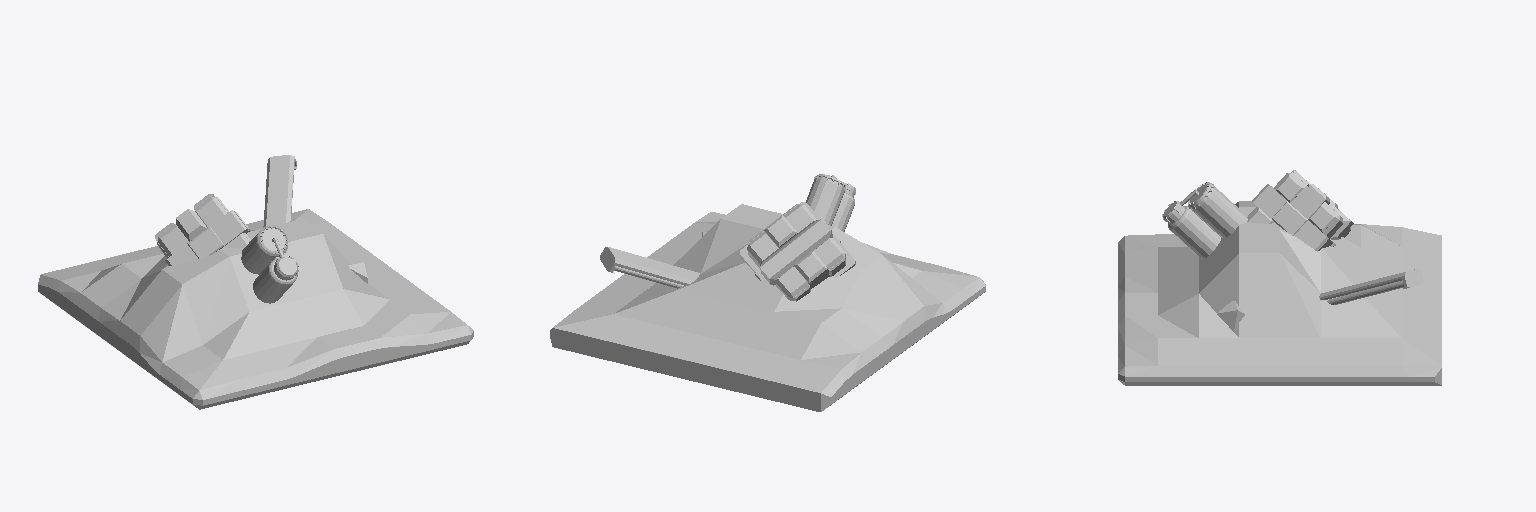
File: Insert[Name]HereJunkPile.obj
The picture shows the model from 3 angles: view 1: azimuth 30°, elevation 25°; view 2: azimuth 150°, elevation 25°; view 3: azimuth 270°, elevation 25°; orthographic projection.
Parts seen in each view (by area): view 1: Cylinder.001; view 2: Cylinder.001; view 3: Cylinder.001.
Part boxes in pixels (x1,y1,x2,y2): Cylinder.001: (38,155,473,409); Cylinder.001: (550,174,985,411); Cylinder.001: (1118,170,1441,385).
Bounding box in the file's own units: 4.84 × 2.11 × 4.84.